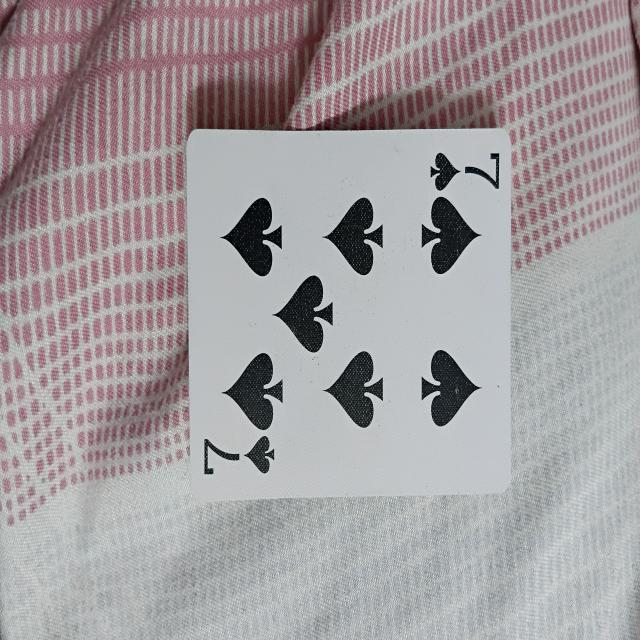7S: (188, 130, 507, 488)
